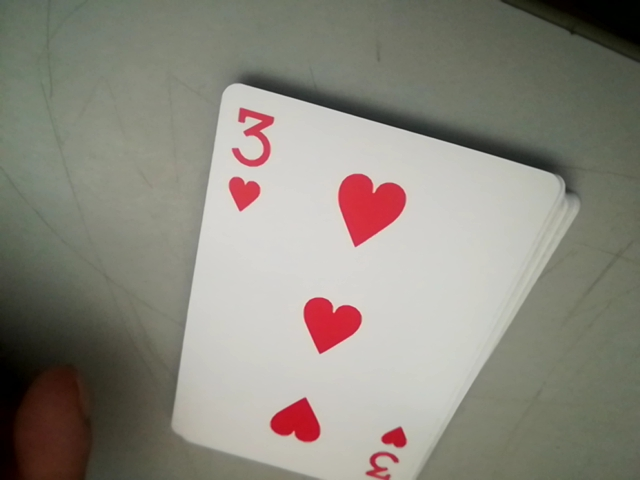hx 3: (227, 107, 276, 211)
